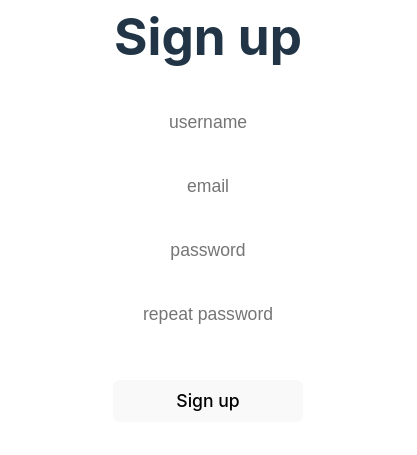
Test: SignUp component › shows validation error when email is invalid
Type "user123" into the field with test id "username" at (208, 123), box [16,99,400,147]
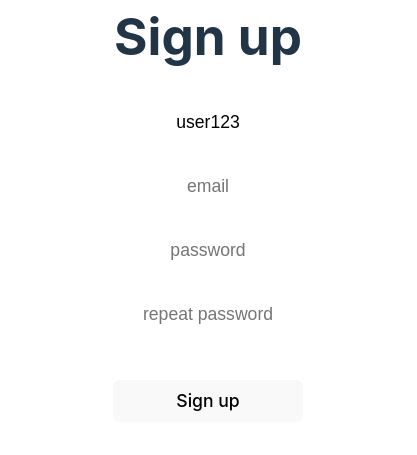
Type "invalid-email" into the field with test id "email" at (208, 187), box [16,163,400,211]
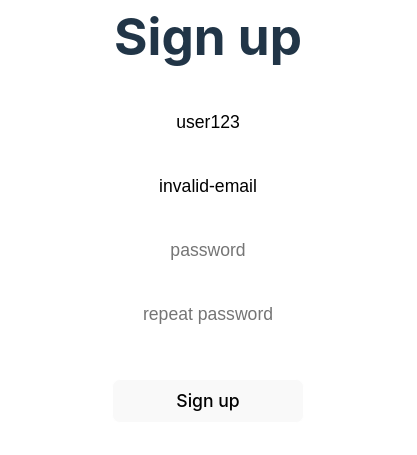
Click the button with test id "register-submit" at (208, 401), box [112,379,304,423]
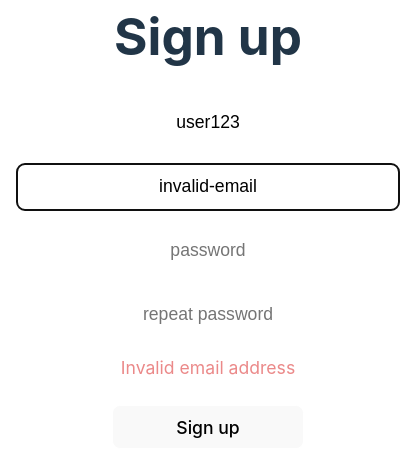
Expected: the text with test id "email-error" reads "Invalid email address", [121,357,295,378]
